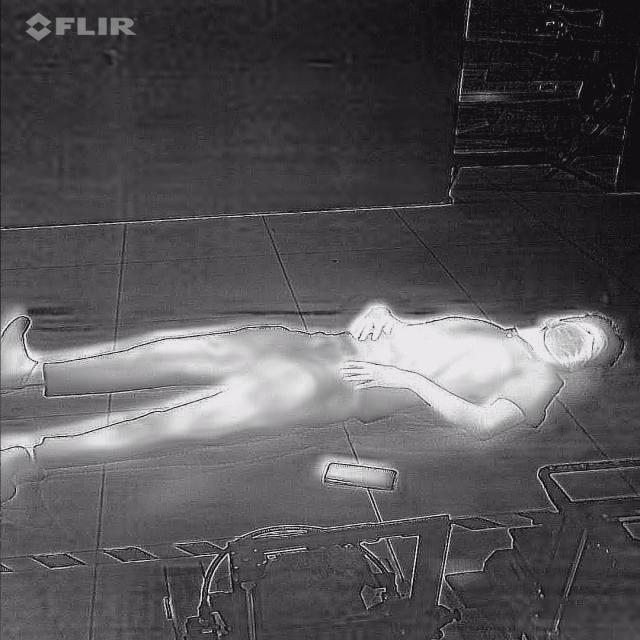Victim: (0, 297, 627, 503)
